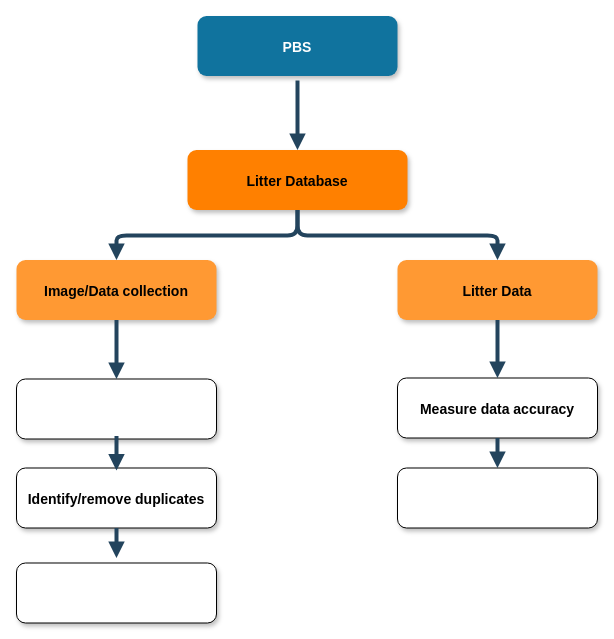
This 614x639 diagram has some shape labels left out. Each missing label, with the centre of its shape:
Check that table fields are properly filled with corresponding data: pixel 498 499
Collect Images: pixel 117 410
Process images in previous groups algorithm: pixel 117 594
